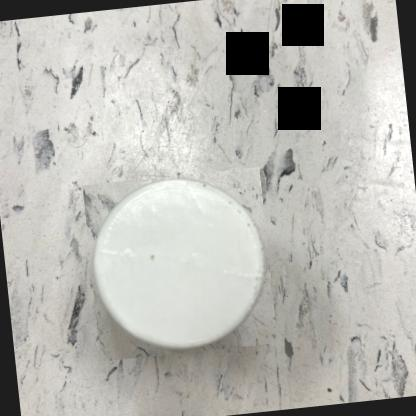white cylinder: (82, 166, 278, 362)
